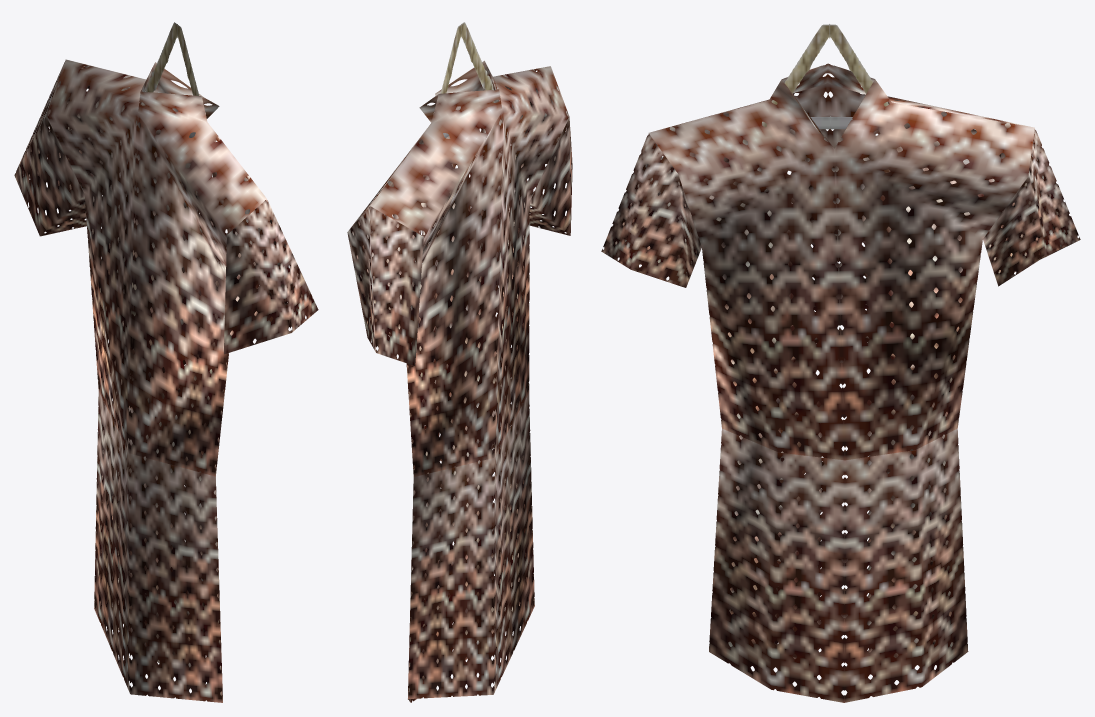
File: armormailhangingredlong.obj
3 renders of one model, left to right at view 1: azimuth 30°, elevation 25°; view 2: azimuth 150°, elevation 25°; view 3: azimuth 270°, elevation 25°, orthographic. The views are drawn at different scales.
Parts seen in each view (by area): view 1: armormailhangingredlong; view 2: armormailhangingredlong; view 3: armormailhangingredlong.
Boxes of the visible parts, x1,y1,x2,y2 form: armormailhangingredlong: [14, 22, 318, 702]; armormailhangingredlong: [347, 22, 572, 702]; armormailhangingredlong: [601, 24, 1080, 702].
Bounding box in the file's own units: 0.1716 × 1.25 × 0.7961.
1 material, 1 textured.
